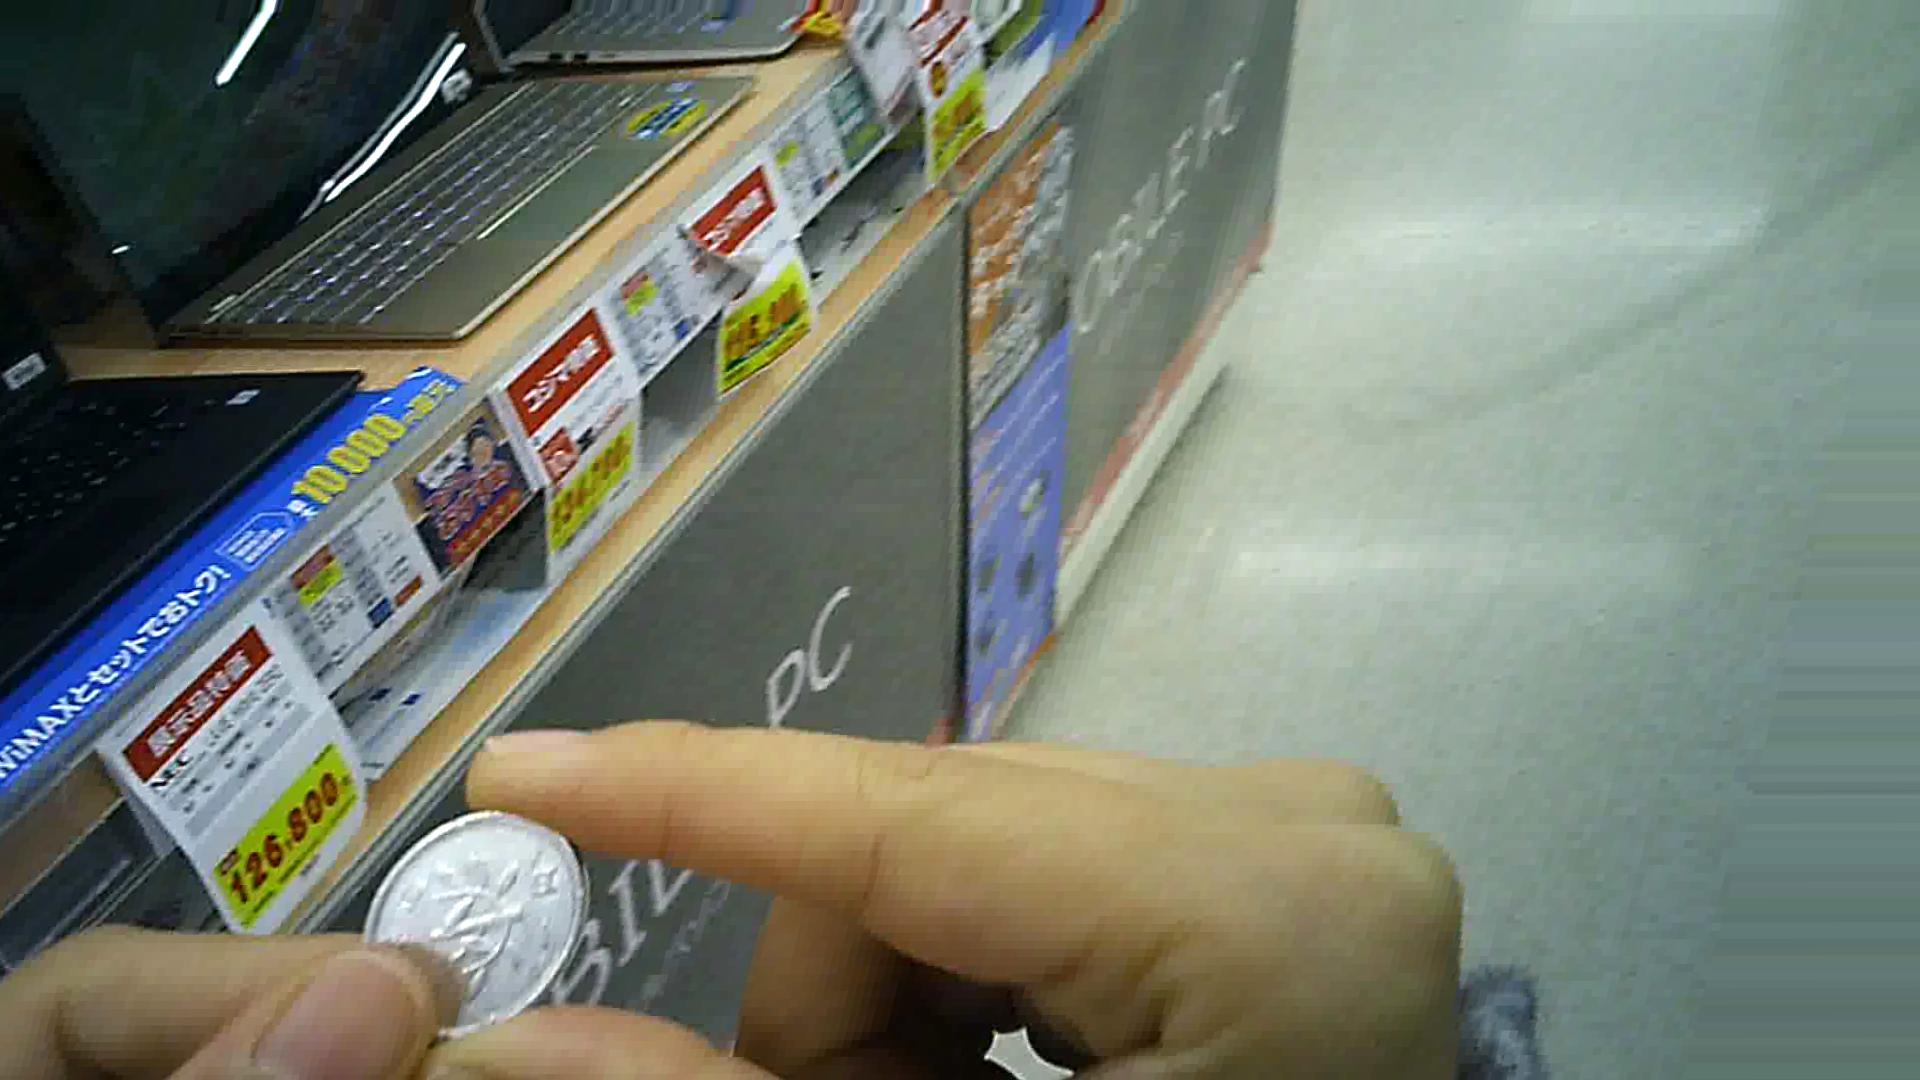1 Yen: (355, 793, 585, 1033)
